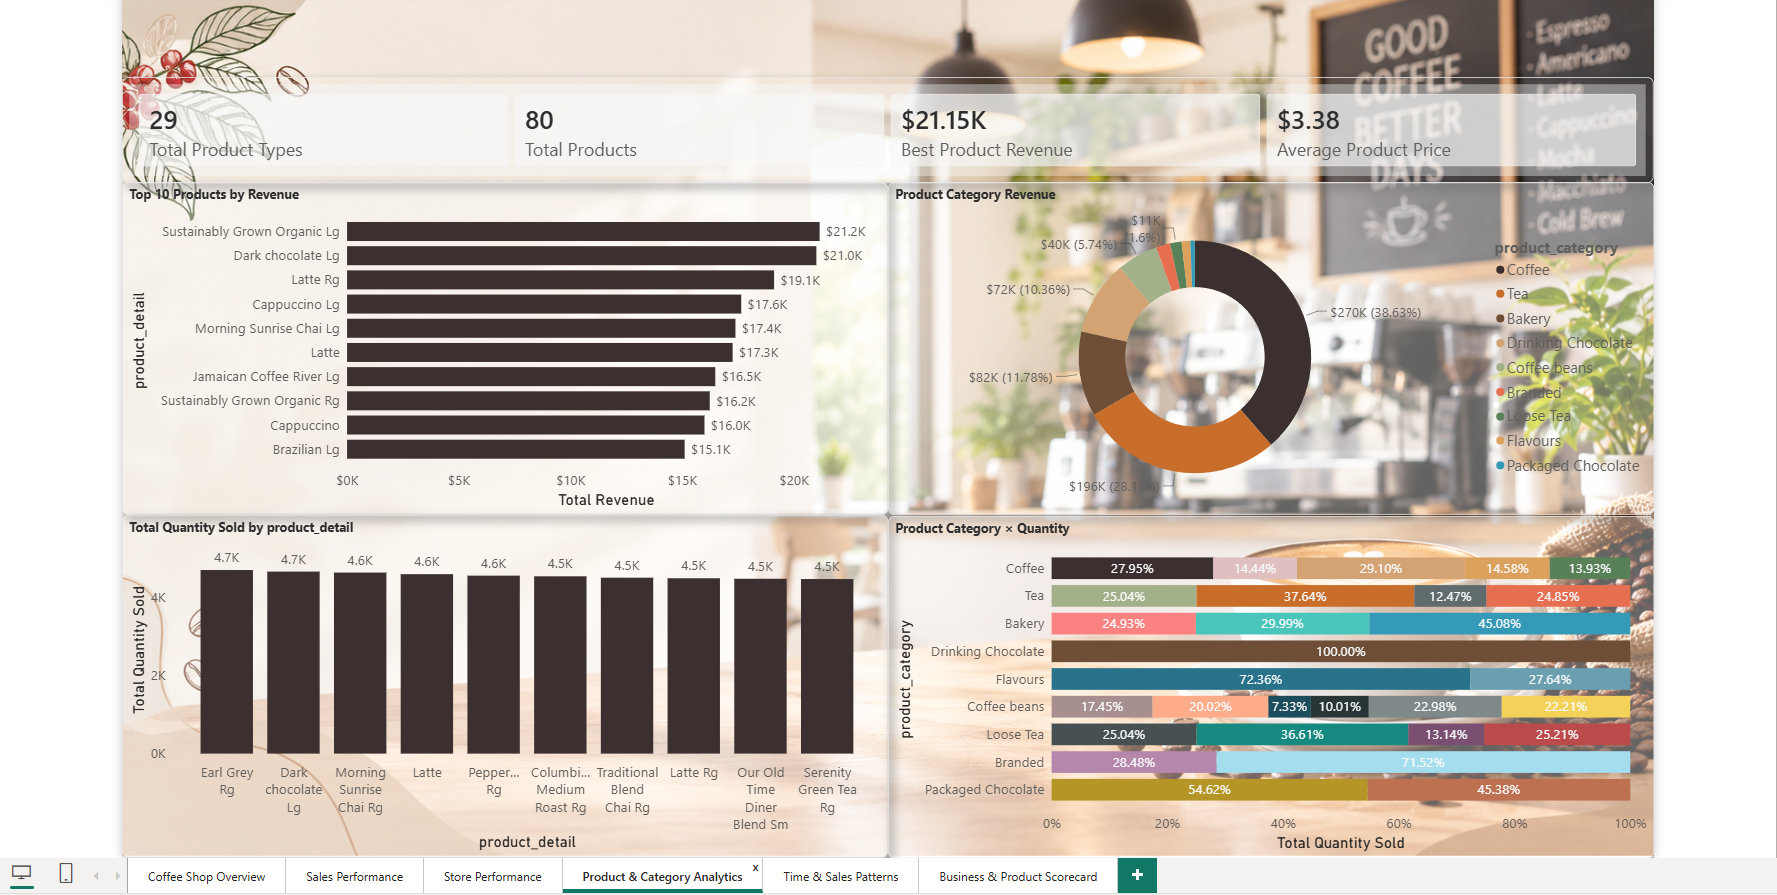

The page's visual inventory and layout, read from the dashboard file:
{"tool":"powerbi","page":{"name":"Product & Category Analytics","canvas":[1920,1080],"ordinal":3},"visuals":[{"type":"cardVisual","fields":{"Data":["Coffee Shop Sales.Total Product Types","Coffee Shop Sales.Total Products","Coffee Shop Sales.Best Product Revenue","Coffee Shop Sales.Average Product Price"]},"box":[0,101.1,1919.3,133],"z":0},{"type":"clusteredBarChart","title":"Top 10 Products by Revenue","fields":{"Category":["Coffee Shop Sales.product_detail"],"Y":["Coffee Shop Sales.Total Revenue"]},"box":[0,233.4,960,417.3],"z":1000},{"type":"donutChart","title":"Product Category Revenue","fields":{"Category":["Coffee Shop Sales.product_category"],"Y":["Coffee Shop Sales.Total Revenue"]},"box":[960,233.4,960,417.3],"z":2000},{"type":"clusteredColumnChart","fields":{"Category":["Coffee Shop Sales.product_detail"],"Y":["Coffee Shop Sales.Total Quantity Sold"]},"box":[0,650.7,960,428.9],"z":3000},{"type":"hundredPercentStackedBarChart","title":"Product Category × Quantity","fields":{"Category":["Coffee Shop Sales.product_category"],"Y":["Coffee Shop Sales.Total Quantity Sold"],"Series":["Coffee Shop Sales.product_type"]},"box":[960,651,960,429],"z":4000}]}

Visuals, with their boxes on the page's 1920x1080 design canvas (x1, y1, x2, y2). These are canvas units, not pixel positions in the 1777x895 screenshot, which may show the page scaled, cropped or inside an application window:
cardVisual - Coffee Shop Sales.Total Product Types x Coffee Shop Sales.Total Products: Rect(0, 101, 1919, 234)
"Top 10 Products by Revenue" clusteredBarChart: Rect(0, 233, 960, 651)
"Product Category Revenue" donutChart: Rect(960, 233, 1920, 651)
clusteredColumnChart - Coffee Shop Sales.product_detail x Coffee Shop Sales.Total Quantity Sold: Rect(0, 651, 960, 1080)
"Product Category × Quantity" hundredPercentStackedBarChart: Rect(960, 651, 1920, 1080)
